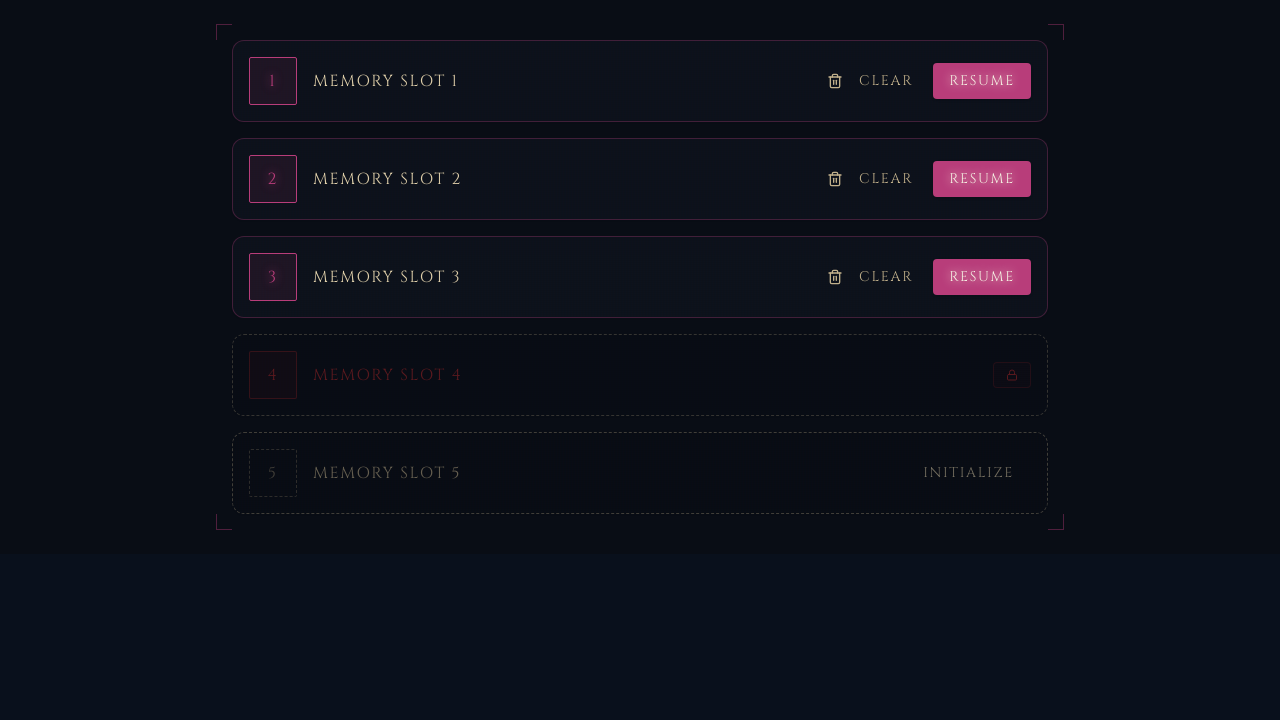
Test case: SlotSelector occupied-slot guard › clicking an occupied slot opens the overwrite confirmation instead of initializing
The image size is (1280, 720).
Click the element "2 MEMORY SLOT 2 CLEAR RESUME": (640, 179) [232,138,1048,220]
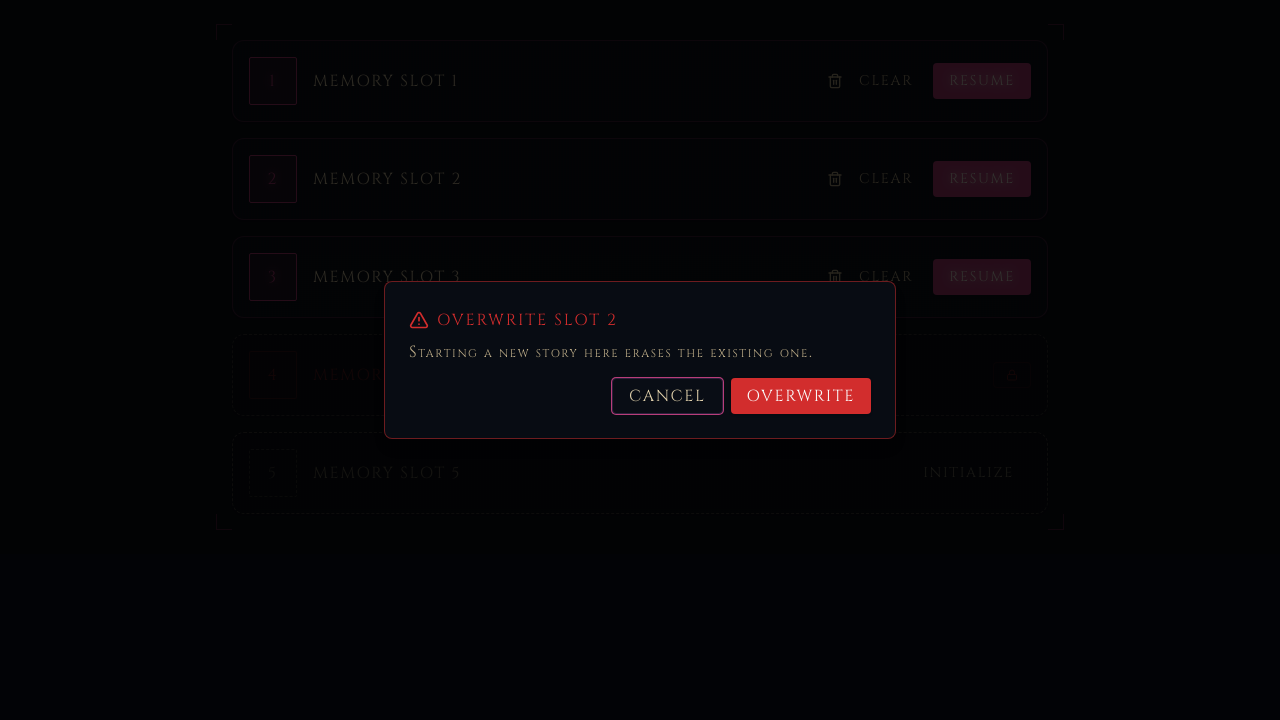
Expected: the dialog with test id "overwrite-confirm" is shown, [384,281,896,439]
Expected: the heading "Overwrite Slot 2" is shown, [409,309,618,331]
